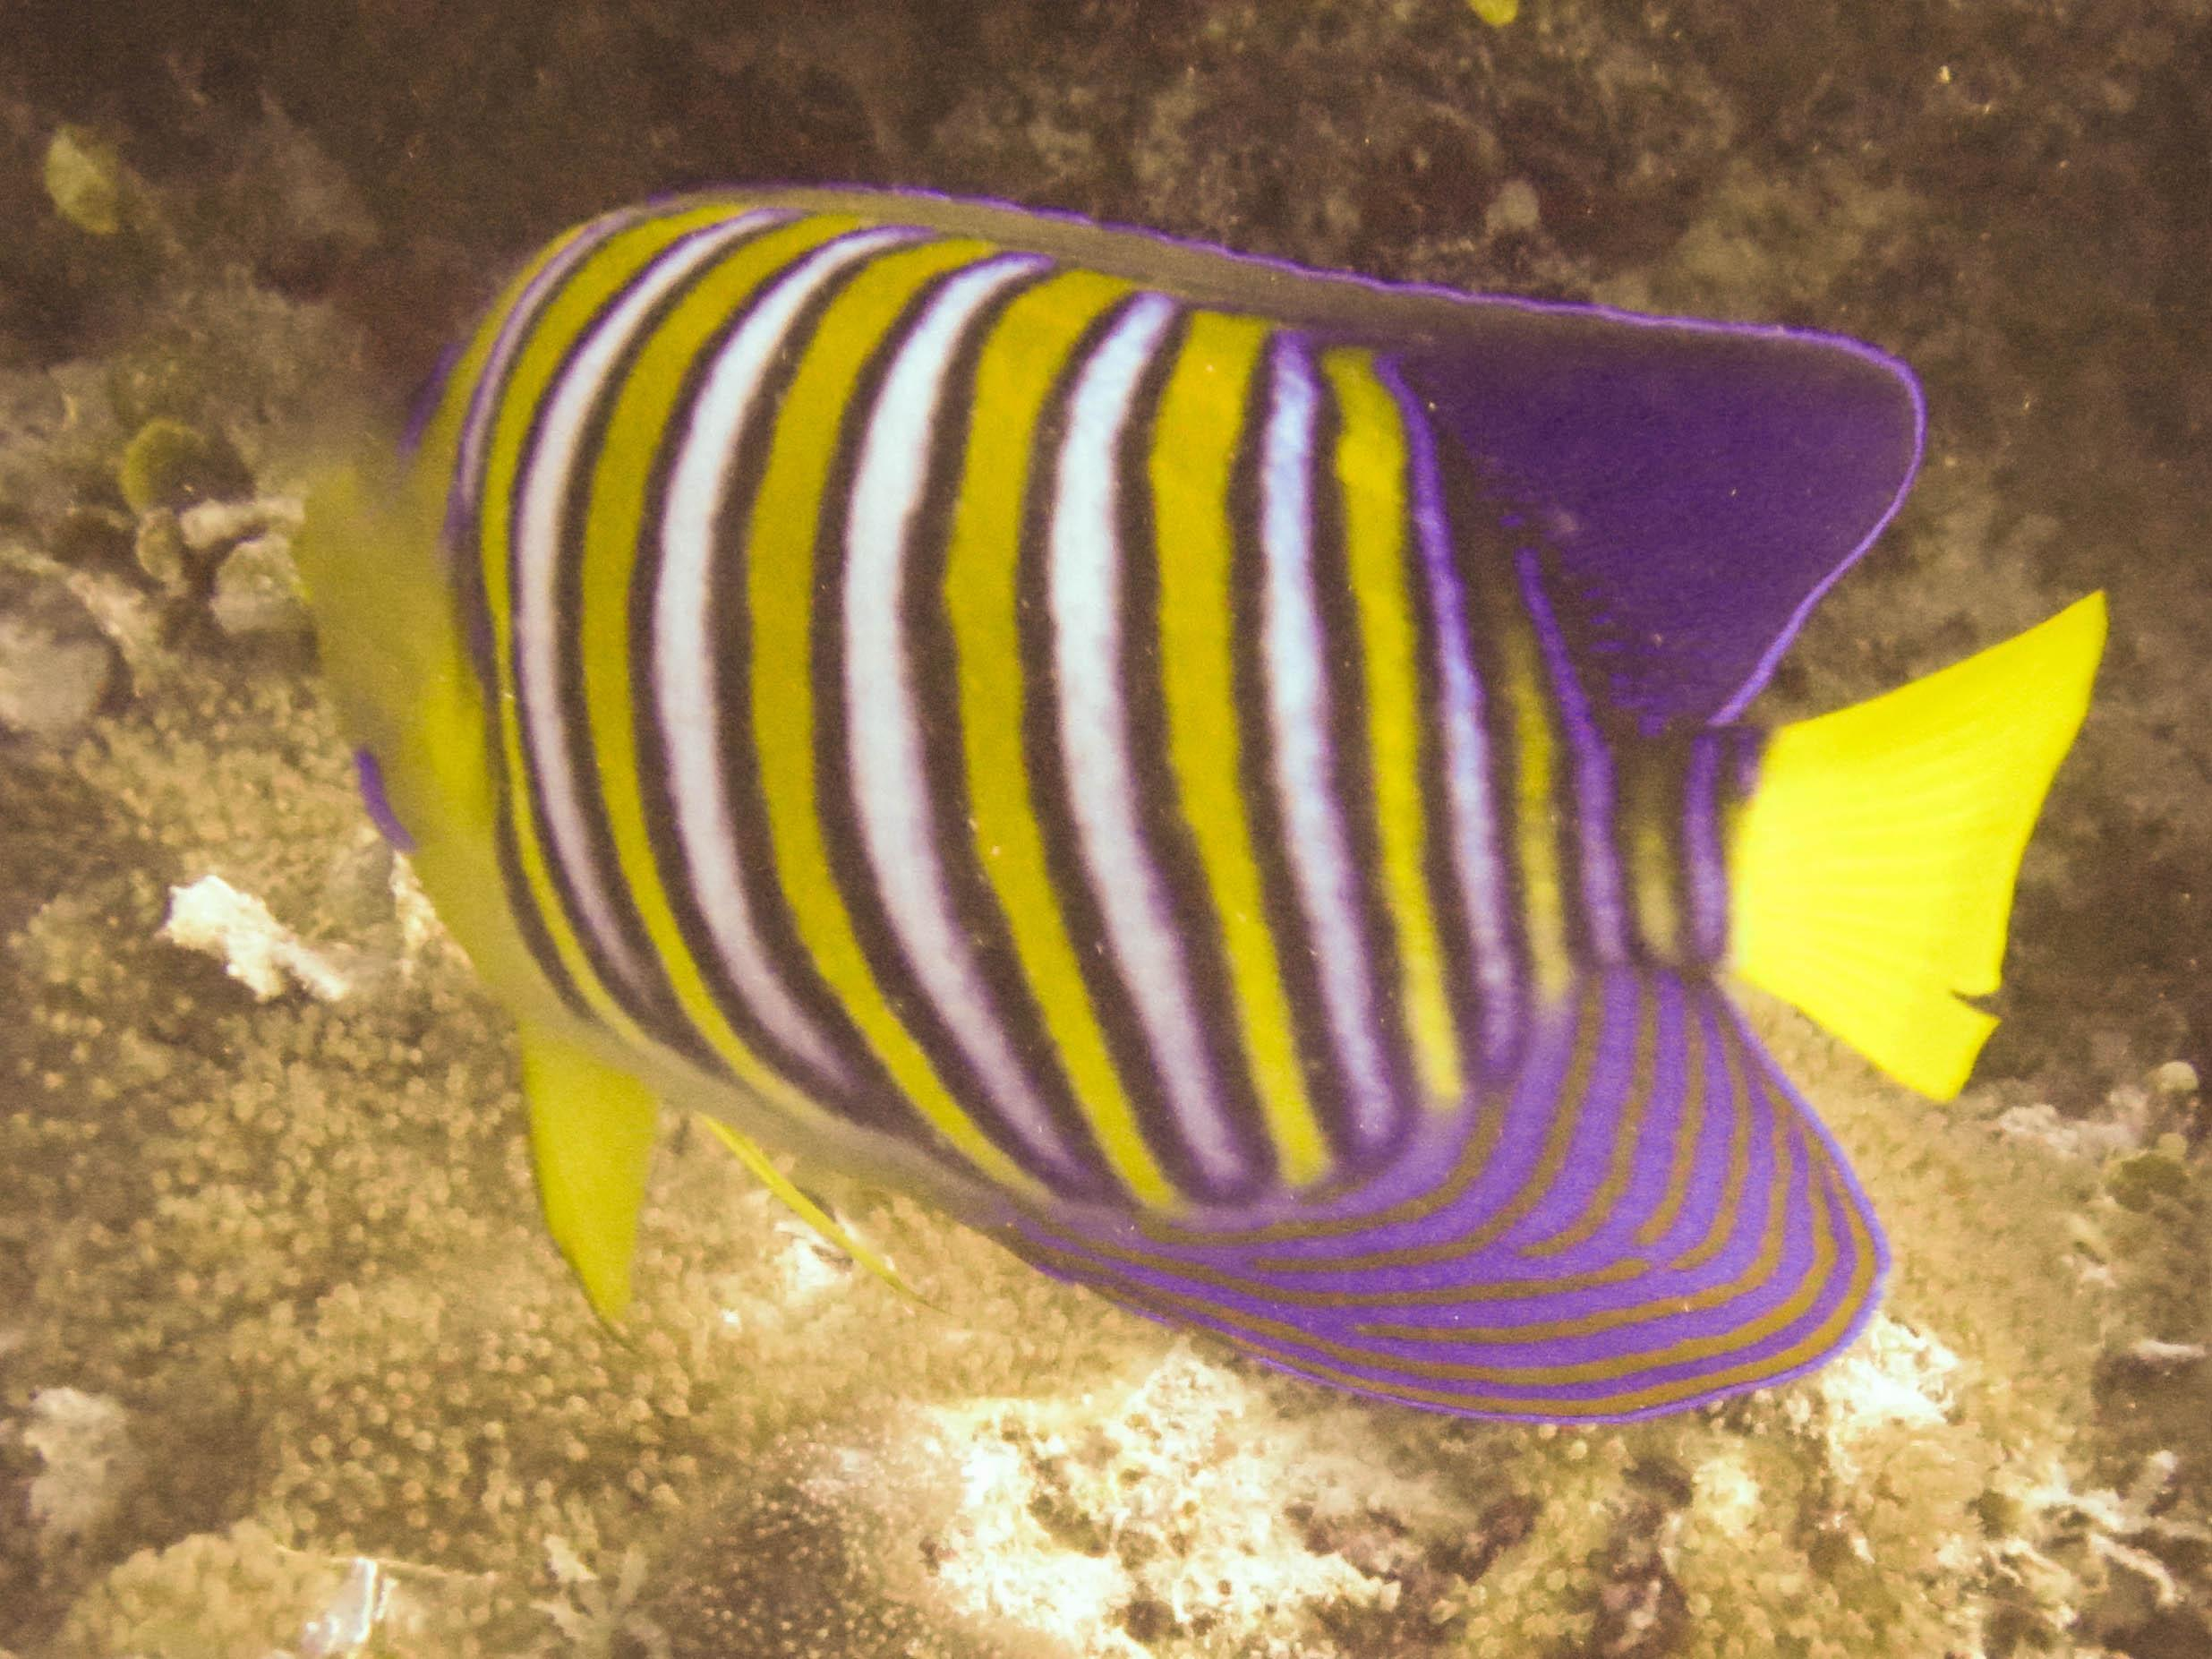Fish: (188, 84, 2170, 1506)
